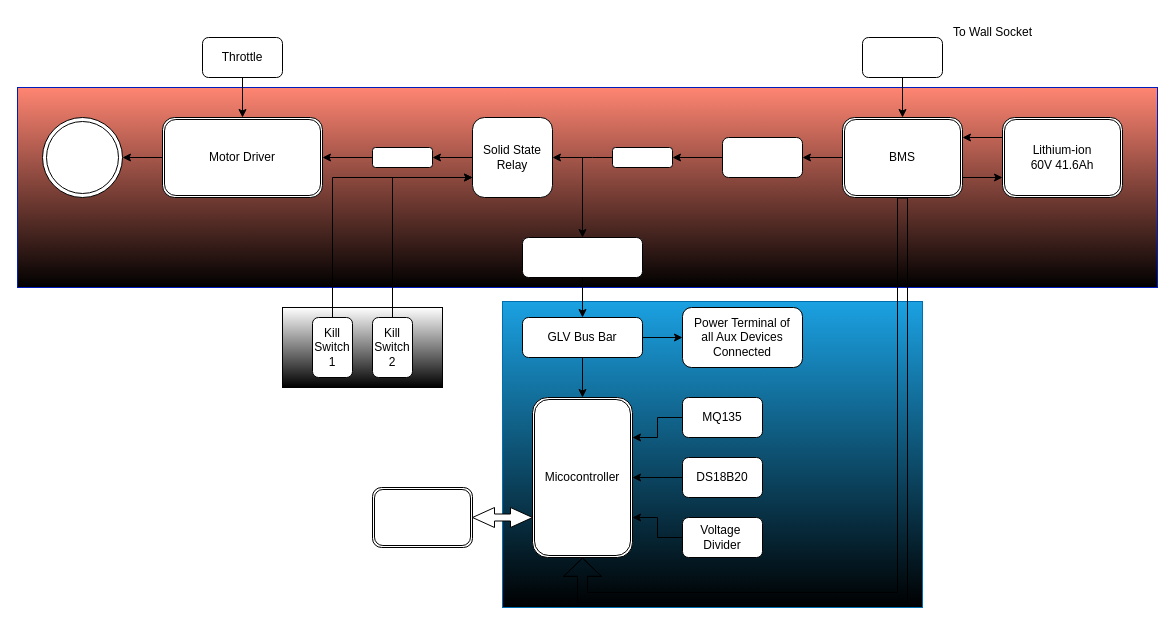
The diagram is 1175 pixels wide and 625 high, and some of its shapes have lost their labels. The centre of each missing label's shape, as x and y in pixels:
180W 12V DC-DC Converters: pixel 582 257
2KW BLDC Motor: pixel 82 157
60A Fuse: pixel 402 157
70A Fuse: pixel 642 157
Charger 10A: pixel 902 57
Cluster: pixel 422 517
MCB 63A: pixel 762 157
